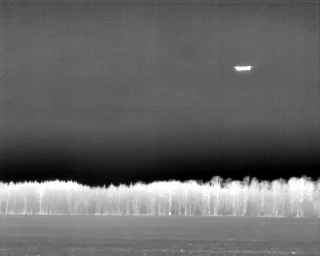DRONE: (230, 60, 256, 77)
